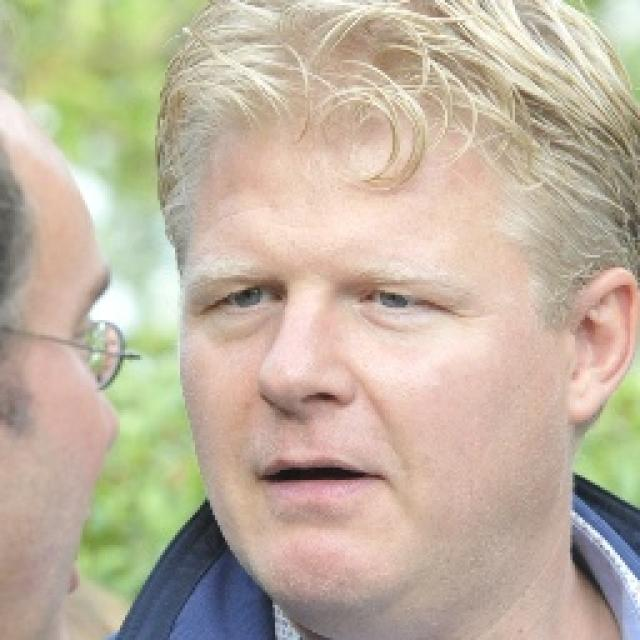earlobe: (565, 265, 640, 427)
